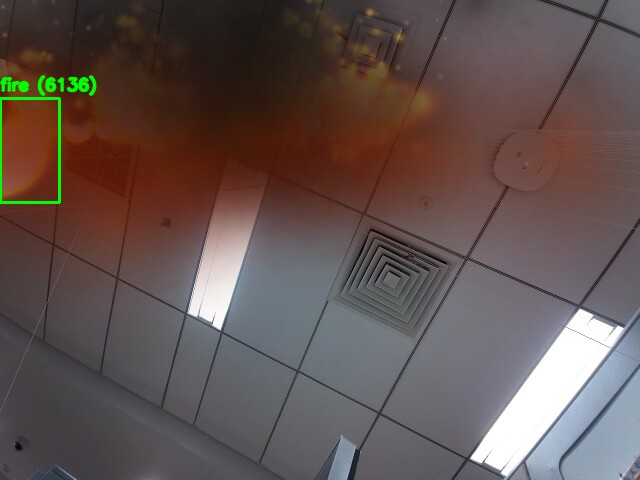fire: (0, 98, 59, 202)
